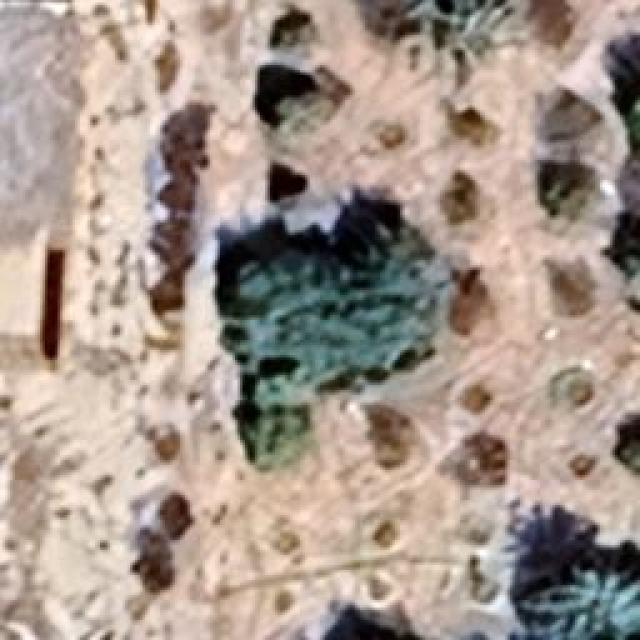PalmTree: (105, 69, 361, 622), (103, 35, 442, 69), (542, 568, 638, 638), (607, 31, 640, 166), (613, 404, 640, 484)
